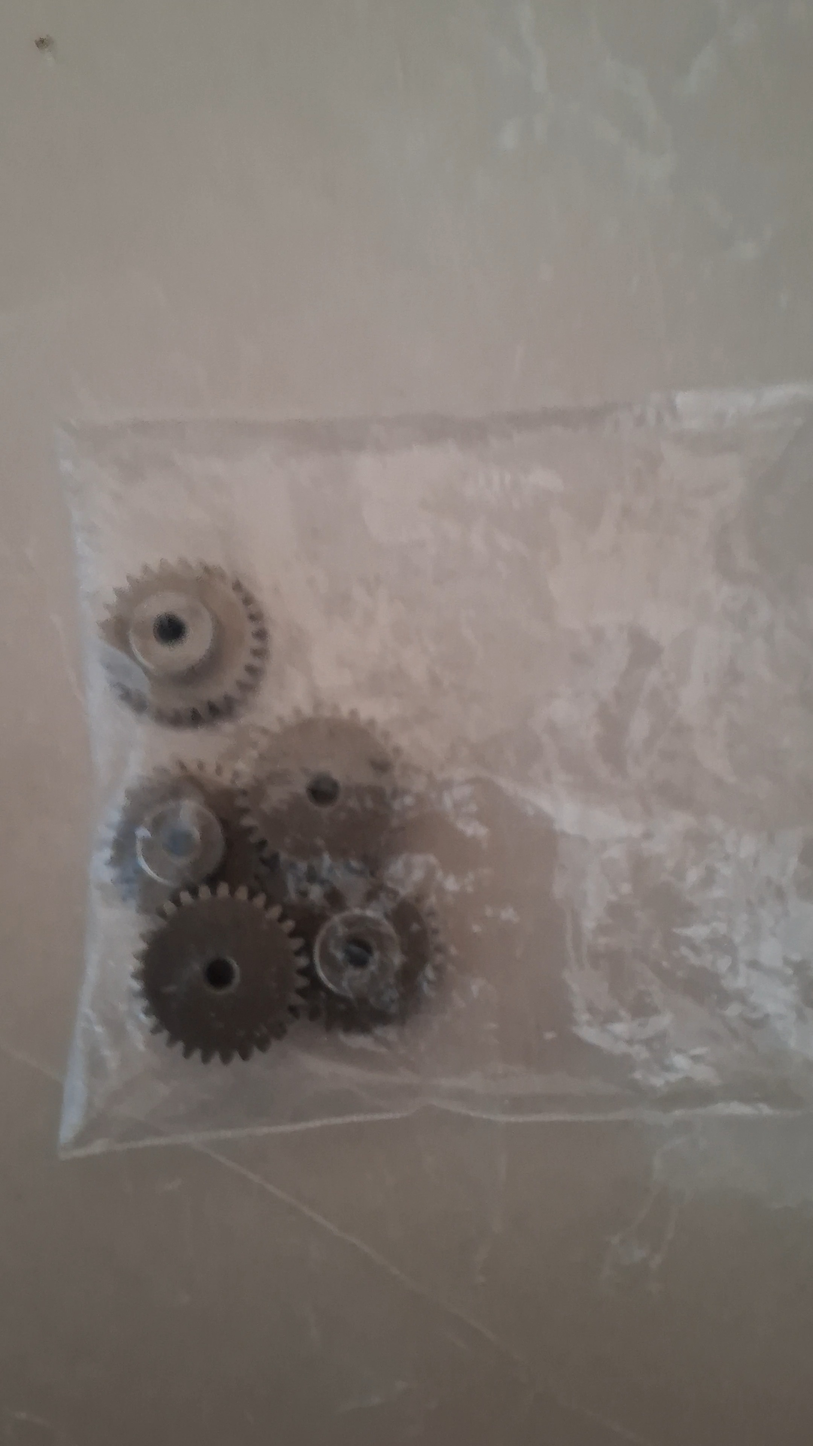spur gear: (134, 883, 302, 1063), (100, 562, 268, 726), (242, 714, 397, 863), (108, 763, 257, 912), (306, 881, 442, 1031)
